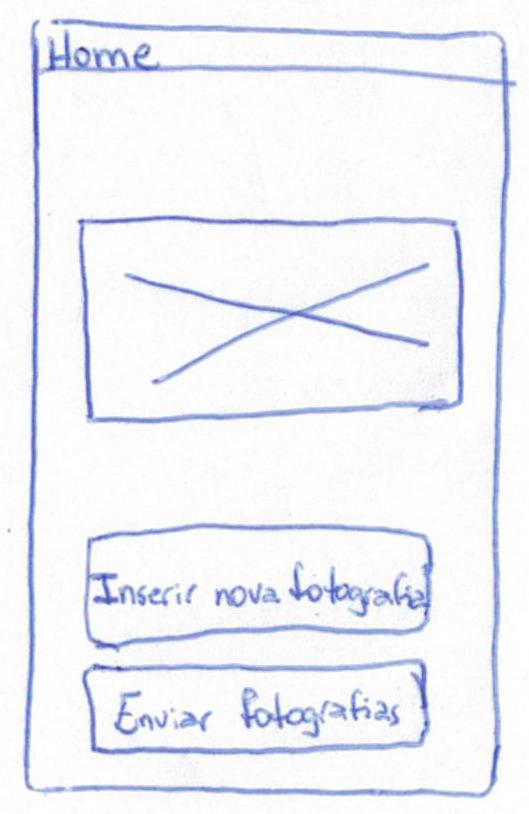Button: (85, 522, 433, 650), (81, 659, 429, 756)
Image: (78, 216, 464, 425)
Label: (47, 29, 161, 71)
Screen: (17, 17, 510, 794)
